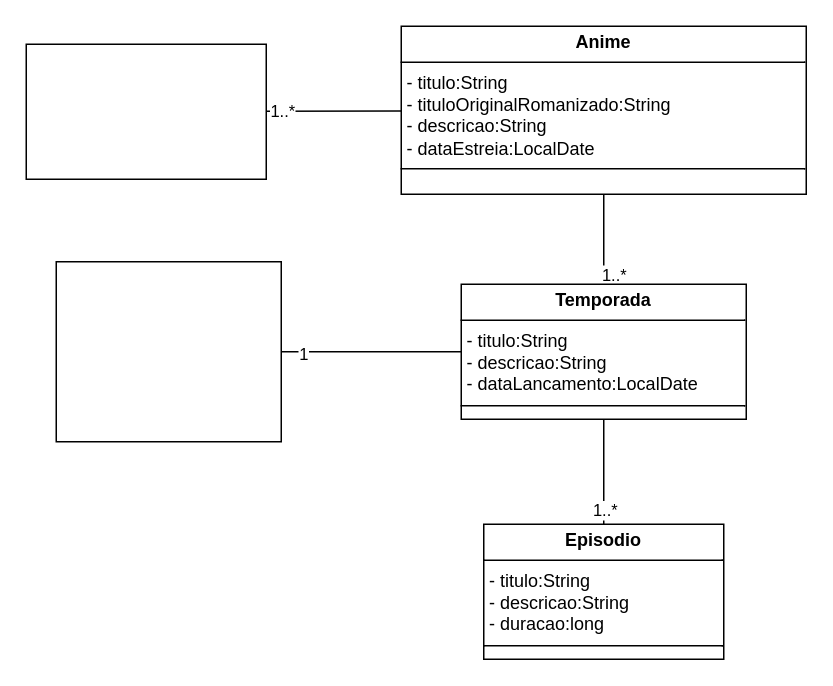
The diagram is 833 pixels wide and 686 high, and some of its shapes have lost their labels. The shapes that lost their labels are listed below. From the top down, each one's centre as x and y in pixels, then its label:
At point 145,111: "Categoria - nome:String - descricao:String".
At point 168,351: "<<Enum>> StatusTemporada + PASSANDO_NA_TV + FINALIZADA + EM_PRODUCAO".
